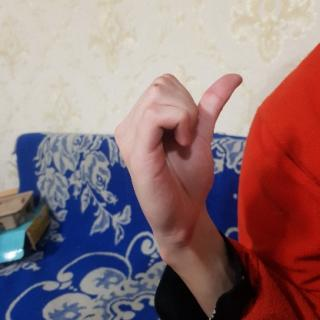WAW: (111, 66, 246, 256)
